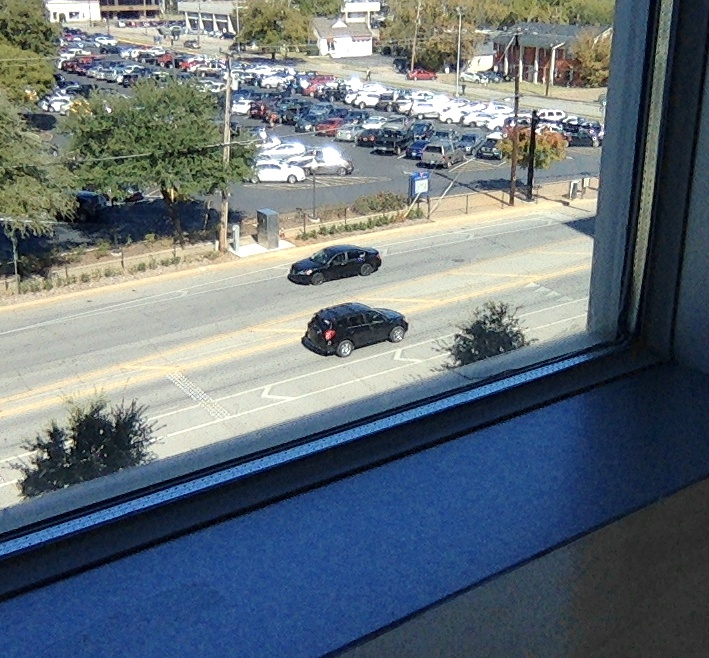car: (300, 300, 409, 358)
